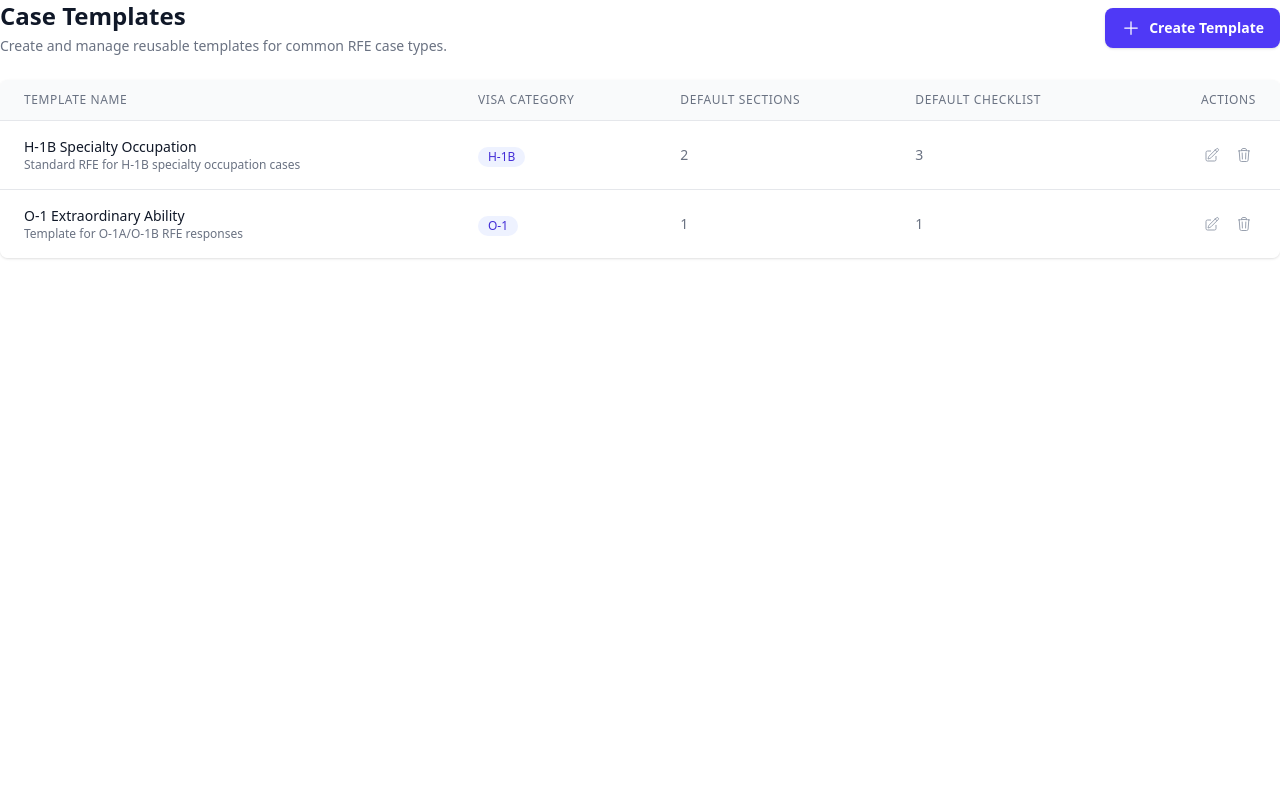
Test: CaseTemplatesView › opens create modal on button click
The image size is (1280, 800).
Step 1. Click the button "Create Template" → (1193, 28), box [1105,8,1279,48]
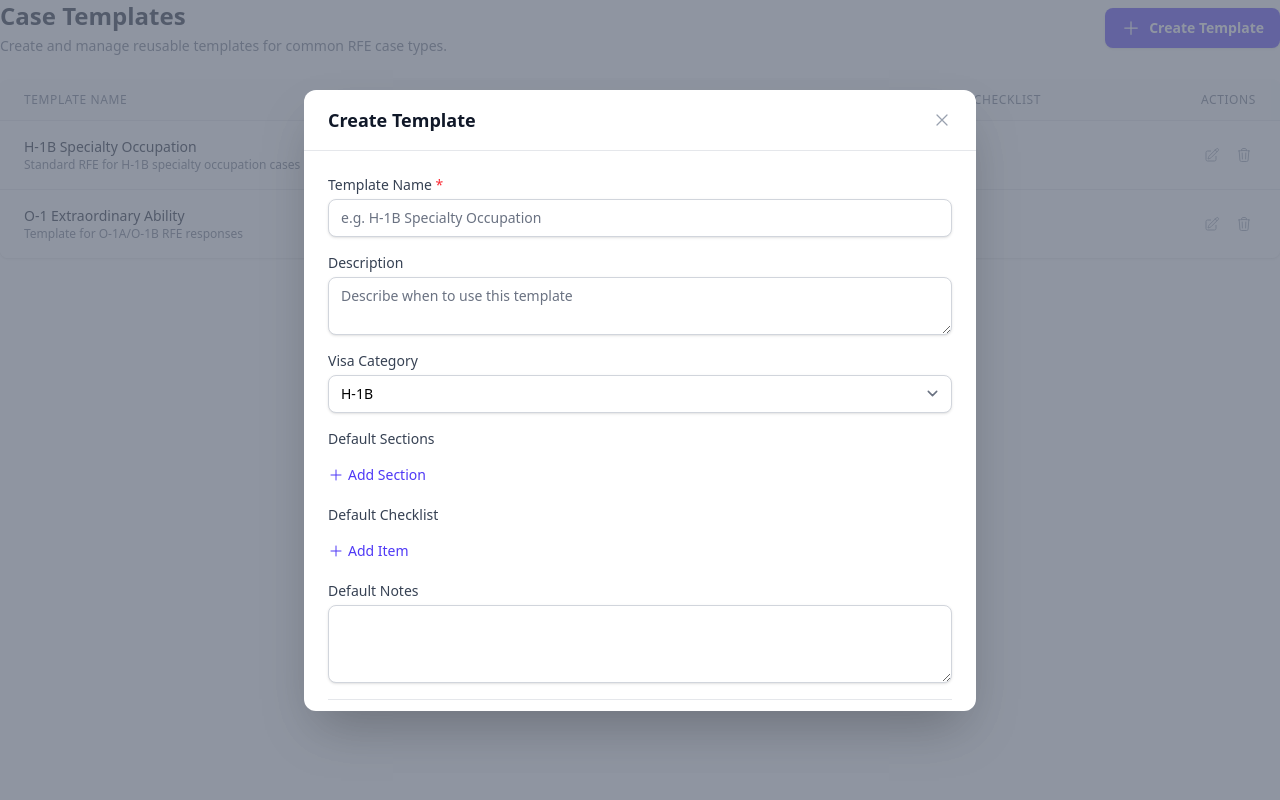
Check: the field with id "template-name" is shown, box [328,198,952,236]
Check: the text box with id "template-description" is shown, box [328,276,952,334]
Check: the dropdown with id "template-visa-category" is shown, box [328,374,952,412]
